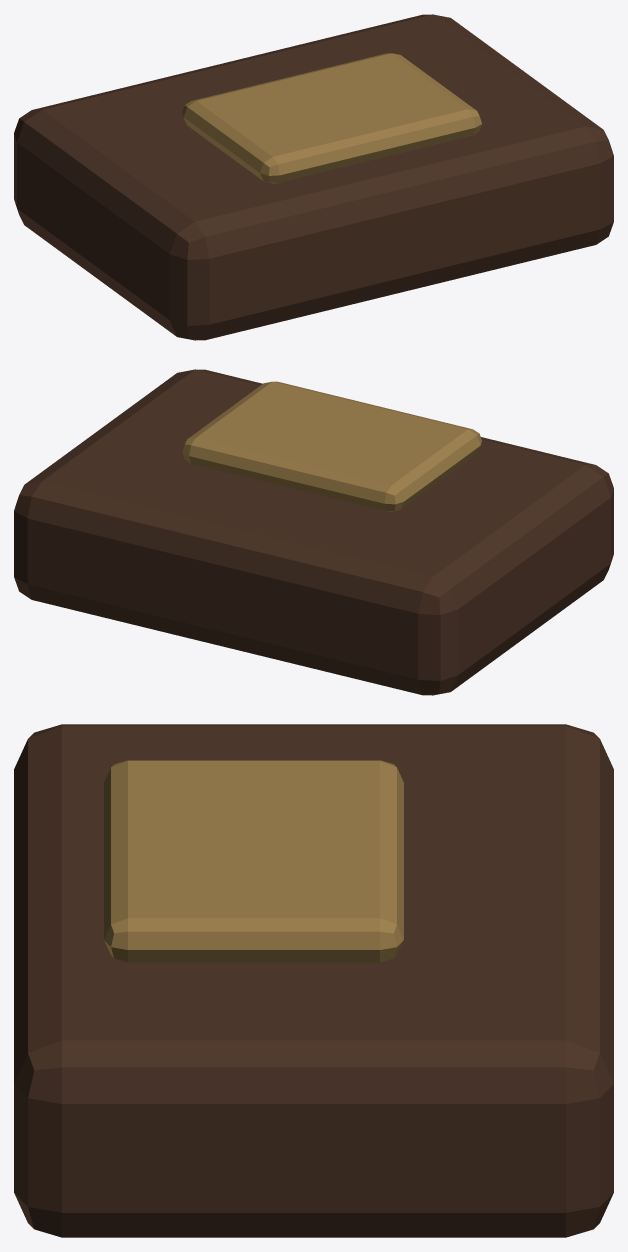
File: Offer.fbx
3 renders of one model, top to bottom at view 1: azimuth 30°, elevation 25°; view 2: azimuth 150°, elevation 25°; view 3: azimuth 270°, elevation 25°, orthographic. The views are drawn at different scales.
Visible parts, largest first — view 1: wooden offer, brass emblem; view 2: wooden offer, brass emblem; view 3: wooden offer, brass emblem.
Boxes of the visible parts, x1,y1,x2,y2 form: wooden offer: (14,14,613,340); brass emblem: (182,53,481,183); wooden offer: (14,369,613,695); brass emblem: (182,381,481,511); wooden offer: (14,724,613,1237); brass emblem: (104,760,403,962).
Size of the model in its own units: 14 by 4.4 by 10.
